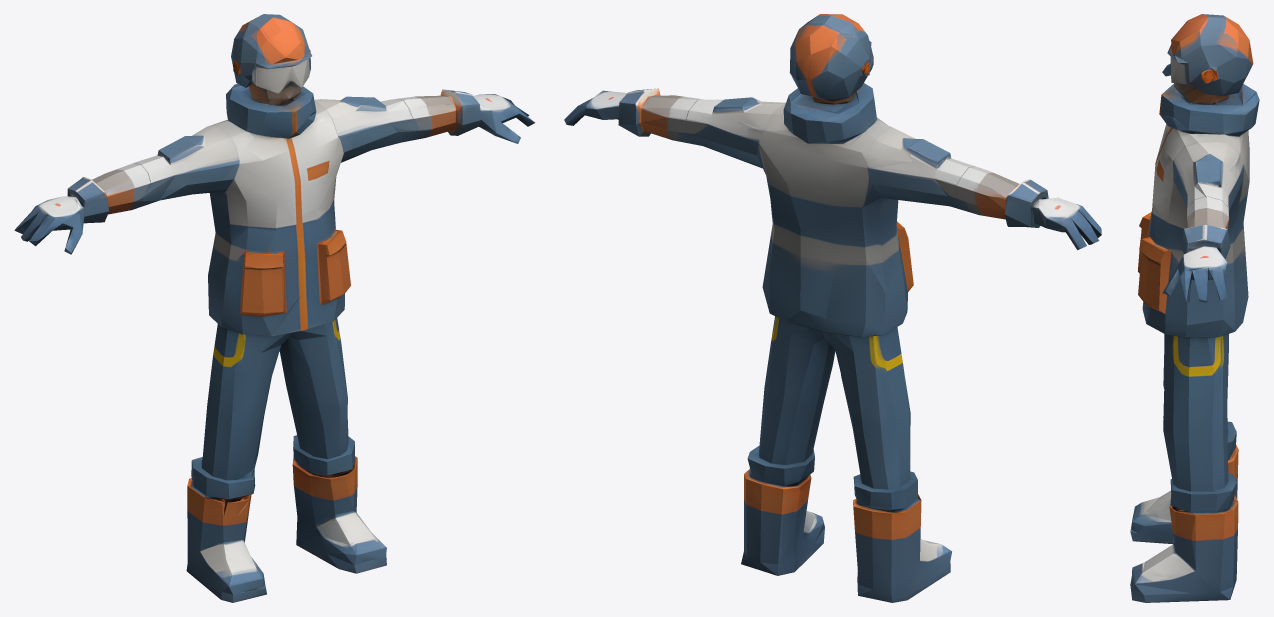
Rendered from low_poly_snowboarder.glb.
3 views of the same model, side by side, from view 1: azimuth 30°, elevation 25°; view 2: azimuth 150°, elevation 25°; view 3: azimuth 270°, elevation 25° (orthographic). The views are drawn at different scales.
Parts seen in each view (by area): view 1: Object_3, Object_2; view 2: Object_3, Object_2; view 3: Object_3, Object_2.
Boxes of the visible parts, box(x1,y1,x2,y2) form: Object_3: box(14, 14, 534, 602); Object_2: box(23, 17, 529, 602); Object_3: box(564, 14, 1101, 602); Object_2: box(567, 14, 1101, 595); Object_3: box(1130, 14, 1259, 602); Object_2: box(1130, 17, 1259, 599).
Size of the model in its own units: 1.74 by 1.77 by 0.3807.
1 material, 1 textured.
